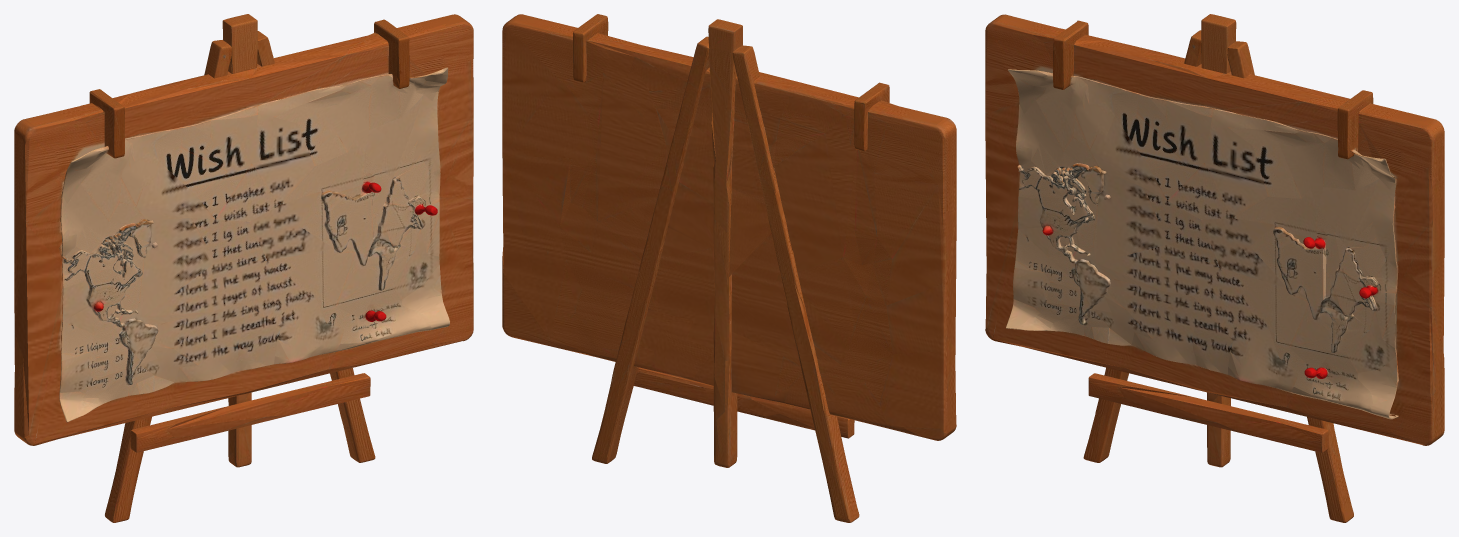
File: xmas_wishlist.glb
3 renders of one model, left to right at view 1: azimuth 30°, elevation 25°; view 2: azimuth 150°, elevation 25°; view 3: azimuth 330°, elevation 25°, orthographic.
Size of the model in its own units: 1.9 by 1.9 by 0.2373.
1 material, 1 textured.
